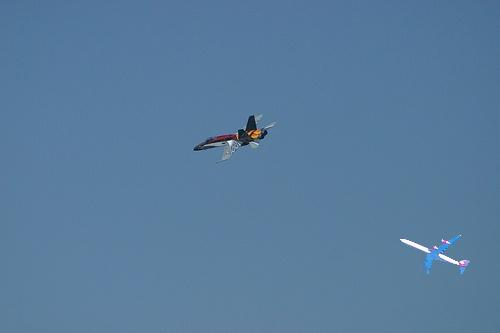tampered: (401, 236, 470, 274)
